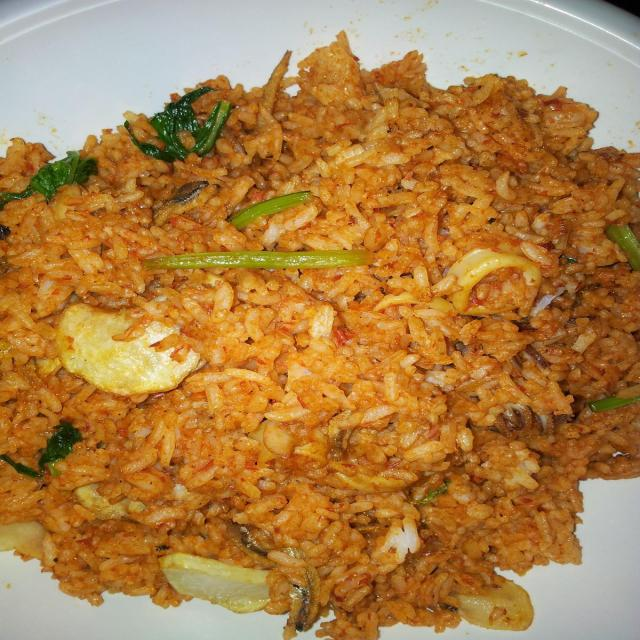Nasi Goreng: (1, 30, 638, 638)
